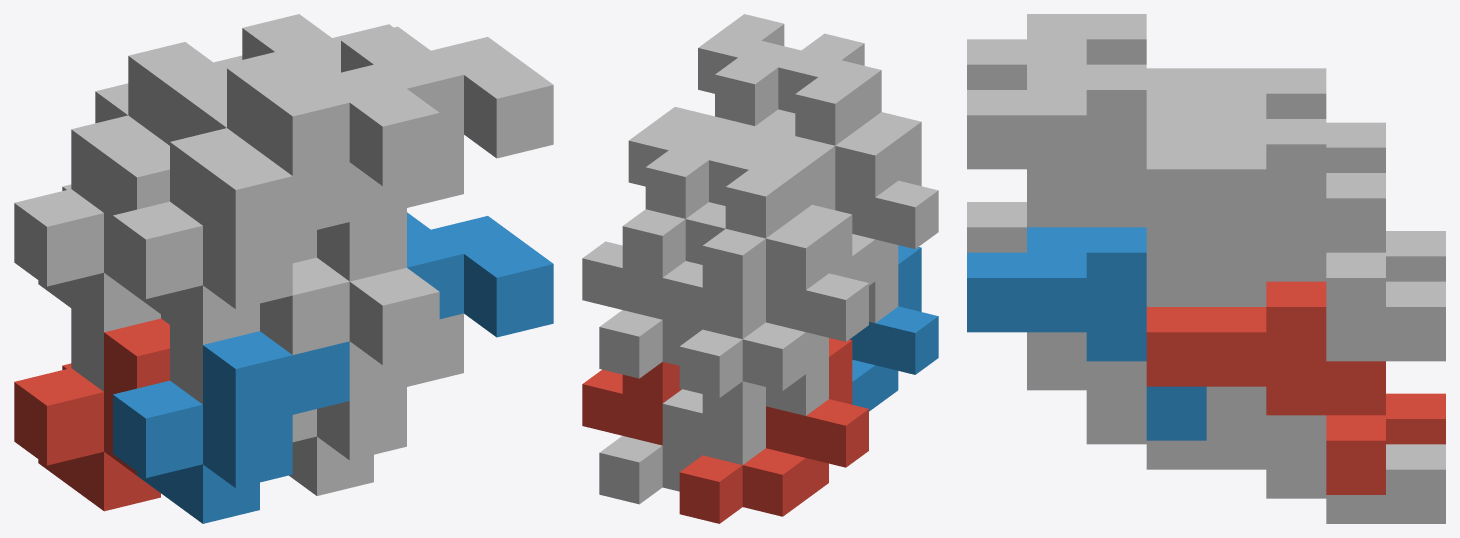
The model's file is tiling.obj.
3 renders of one model, left to right at view 1: azimuth 30°, elevation 25°; view 2: azimuth 150°, elevation 25°; view 3: azimuth 270°, elevation 25°, orthographic. The views are drawn at different scales.
Parts seen in each view (by area): view 1: copy_1_domain_4, copy_1_domain_2, copy_2_domain_4, copy_1_domain_3, copy_1_domain_1, copy_2_domain_8, copy_2_domain_2, copy_1_domain_6, copy_2_domain_6, copy_2_domain_3, copy_1_domain_8, copy_2_domain_7 (+1 smaller); view 2: copy_2_domain_3, copy_2_domain_7, copy_1_domain_3, copy_1_domain_1, copy_2_domain_4, copy_2_domain_8, copy_1_domain_4, copy_2_domain_1, copy_1_domain_2, copy_2_domain_5, copy_1_domain_5, copy_1_domain_7 (+1 smaller); view 3: copy_2_domain_7, copy_2_domain_5, copy_2_domain_8, copy_2_domain_6, copy_1_domain_6, copy_1_domain_5, copy_2_domain_3, copy_2_domain_4, copy_1_domain_8, copy_1_domain_7, copy_1_domain_1, copy_1_domain_3 (+1 smaller).
Part boxes in pixels (<box>): copy_1_domain_4: <box>113,152,349,344</box>; copy_1_domain_2: <box>113,331,349,523</box>; copy_2_domain_4: <box>170,54,439,225</box>; copy_1_domain_3: <box>14,139,169,332</box>; copy_1_domain_1: <box>14,318,169,511</box>; copy_2_domain_8: <box>312,26,553,158</box>; copy_2_domain_2: <box>170,257,439,404</box>; copy_1_domain_6: <box>289,313,463,495</box>; copy_2_domain_6: <box>407,212,553,337</box>; copy_2_domain_3: <box>71,42,279,212</box>; copy_1_domain_8: <box>292,134,463,281</box>; copy_2_domain_7: <box>214,14,393,74</box>; copy_2_domain_3: <box>662,126,828,339</box>; copy_2_domain_7: <box>582,107,731,319</box>; copy_1_domain_3: <box>679,204,868,397</box>; copy_1_domain_1: <box>679,338,868,523</box>; copy_2_domain_4: <box>772,33,898,209</box>; copy_2_domain_8: <box>692,14,800,142</box>; copy_1_domain_4: <box>835,112,938,285</box>; copy_2_domain_1: <box>662,357,828,464</box>; copy_1_domain_2: <box>849,245,938,411</box>; copy_2_domain_5: <box>582,361,681,445</box>; copy_1_domain_5: <box>599,436,701,504</box>; copy_1_domain_7: <box>599,310,702,378</box>; copy_2_domain_7: <box>1146,119,1385,332</box>; copy_2_domain_5: <box>1146,281,1385,494</box>; copy_2_domain_8: <box>967,64,1206,277</box>; copy_2_domain_6: <box>967,227,1206,440</box>; copy_1_domain_6: <box>1027,332,1266,469</box>; copy_1_domain_5: <box>1206,386,1445,523</box>; copy_2_domain_3: <box>1146,68,1385,172</box>; copy_2_domain_4: <box>967,14,1206,93</box>; copy_1_domain_8: <box>1027,169,1266,306</box>; copy_1_domain_7: <box>1206,223,1445,361</box>; copy_1_domain_1: <box>1386,393,1445,444</box>; copy_1_domain_3: <box>1386,231,1445,281</box>.
Bounding box in the file's own units: 6 × 8 × 8.
